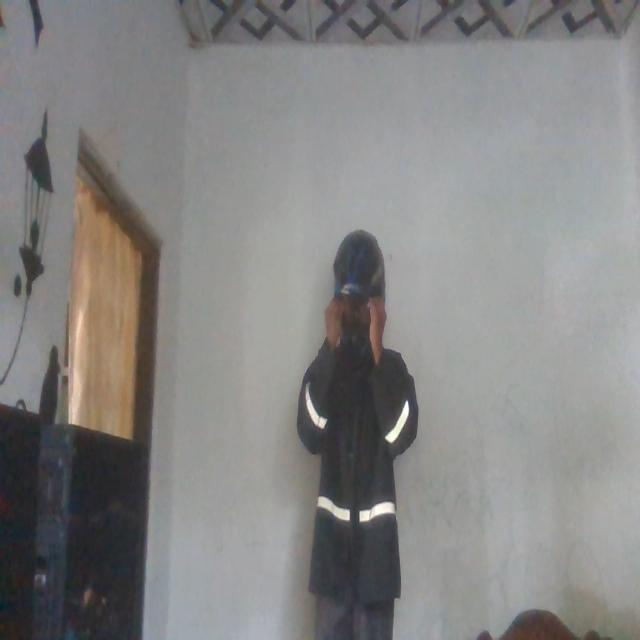Helmet_Wearer: (319, 222, 385, 360)
Jacket_Wearer: (299, 336, 417, 620)
Person: (298, 223, 414, 640)
